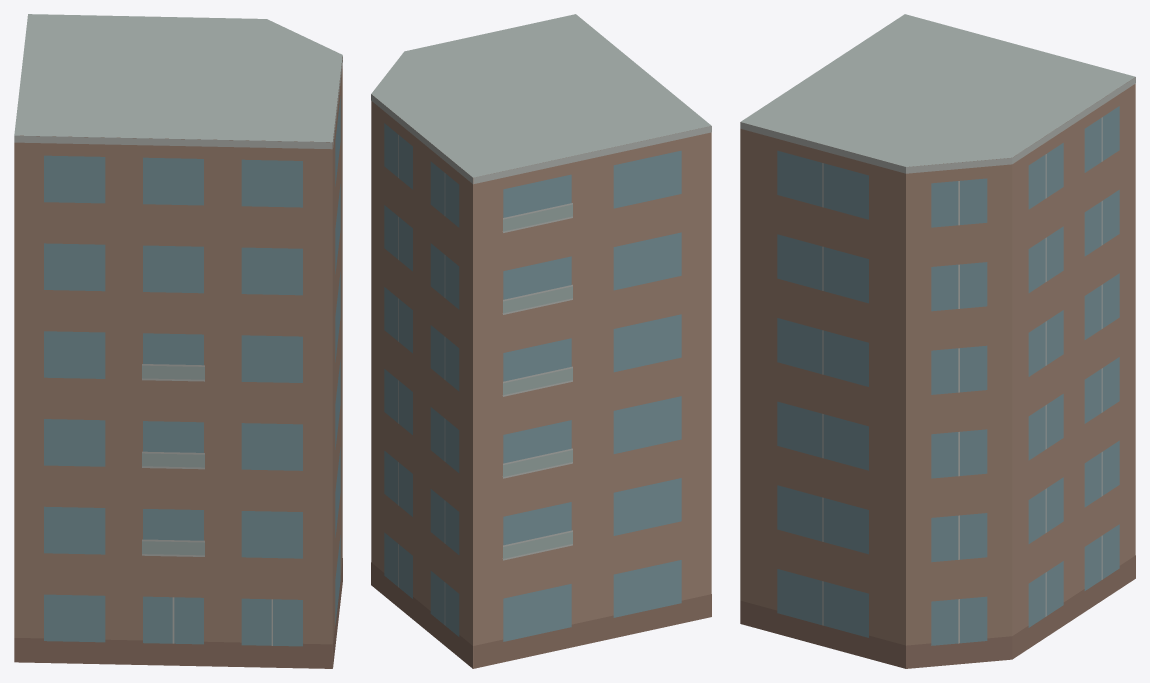
The model's file is survey-upis-33025897.glb.
The picture shows the model from 3 angles, left to right: view 1: azimuth 30°, elevation 25°; view 2: azimuth 150°, elevation 25°; view 3: azimuth 270°, elevation 25°; orthographic projection. The views are drawn at different scales.
Visible parts, largest first — view 1: survey-upis-33025897.tmp; view 2: survey-upis-33025897.tmp; view 3: survey-upis-33025897.tmp.
Part boxes in pixels (x1,y1,x2,y2): survey-upis-33025897.tmp: (14, 14, 342, 668); survey-upis-33025897.tmp: (371, 14, 711, 668); survey-upis-33025897.tmp: (740, 14, 1135, 668).
Bounding box in the file's own units: 11.98 × 18.3 × 13.08.
